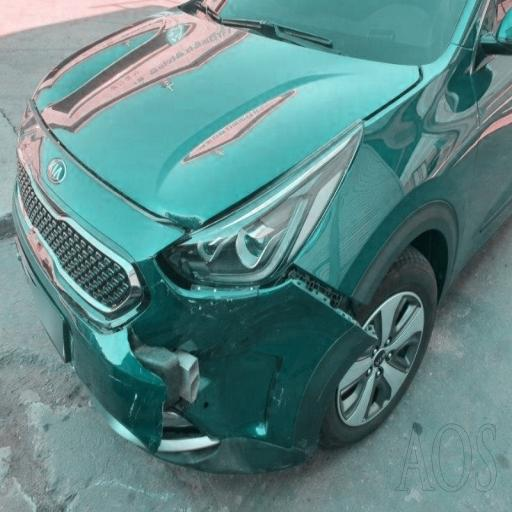broken: (119, 182, 389, 480)
